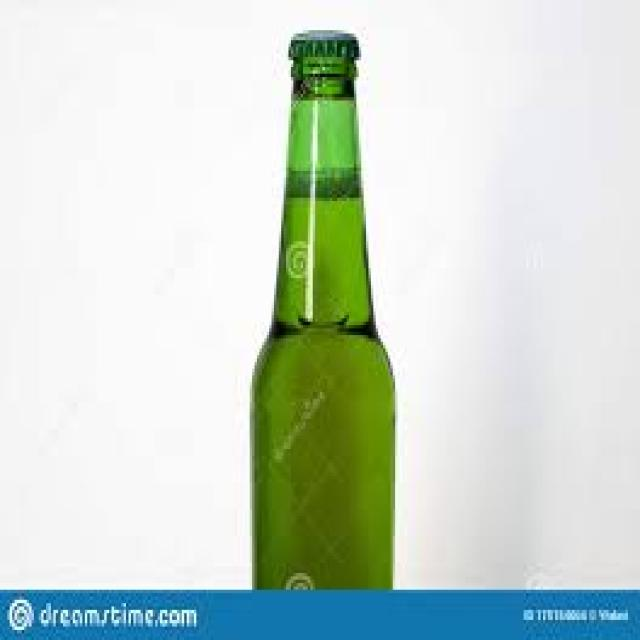glass: (250, 54, 393, 587)
metal: (286, 27, 356, 57)
